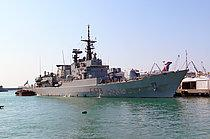MIL_Ship: (30, 39, 189, 100)
